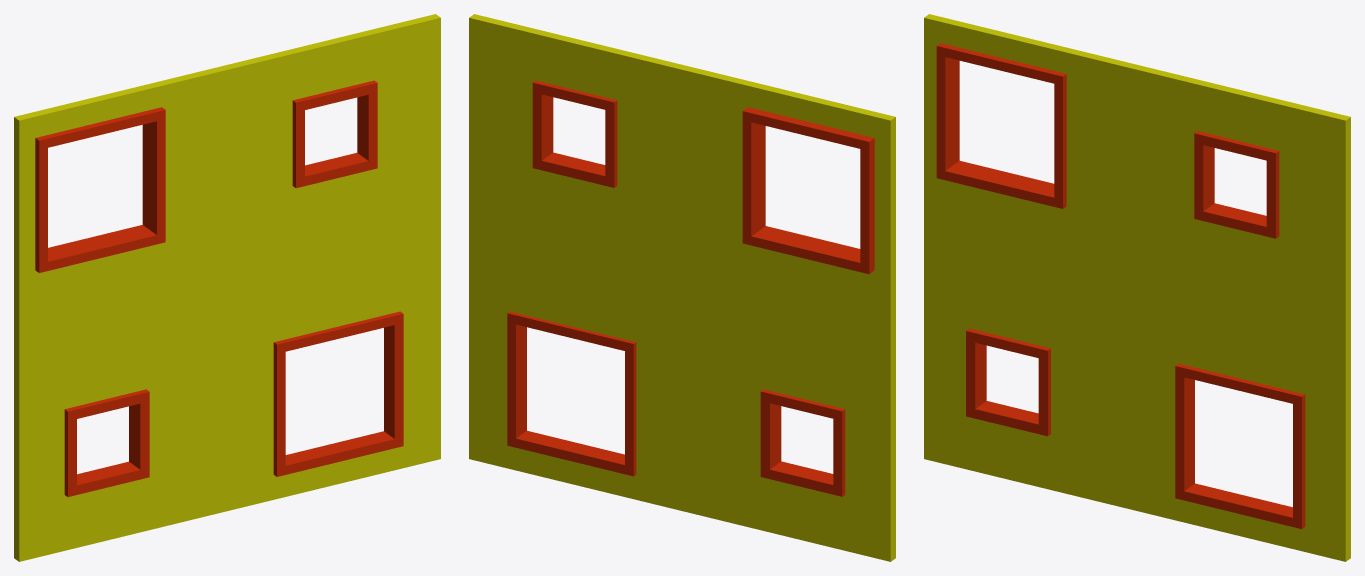
File: TorpedoTarget.dae
The picture shows the model from 3 angles, left to right: view 1: azimuth 30°, elevation 25°; view 2: azimuth 150°, elevation 25°; view 3: azimuth 330°, elevation 25°; orthographic projection.
Visible parts, largest first — view 1: Cube, Cube_001, Cube_004, Cube_002, Cube_003; view 2: Cube, Cube_001, Cube_004, Cube_003, Cube_002; view 3: Cube, Cube_001, Cube_004, Cube_003, Cube_002.
Boxes of the visible parts, left/top/right/bottom form: Cube: left=14, top=14, right=440, bottom=561; Cube_001: left=35, top=107, right=165, bottom=272; Cube_004: left=273, top=311, right=403, bottom=476; Cube_002: left=64, top=389, right=149, bottom=496; Cube_003: left=292, top=80, right=377, bottom=188; Cube: left=469, top=14, right=895, bottom=561; Cube_001: left=742, top=107, right=874, bottom=274; Cube_004: left=507, top=311, right=636, bottom=476; Cube_003: left=532, top=80, right=617, bottom=187; Cube_002: left=760, top=389, right=845, bottom=496; Cube: left=924, top=14, right=1350, bottom=561; Cube_001: left=936, top=43, right=1066, bottom=208; Cube_004: left=1175, top=363, right=1305, bottom=529; Cube_003: left=1194, top=131, right=1279, bottom=238; Cube_002: left=966, top=328, right=1050, bottom=436.
Bounding box in the file's own units: 1.2 × 0.0705 × 1.2.
